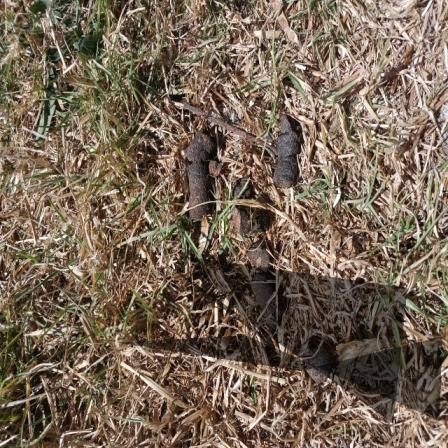dog-poop: (231, 180, 290, 327), (178, 130, 219, 228), (272, 116, 311, 196), (296, 340, 339, 380)
